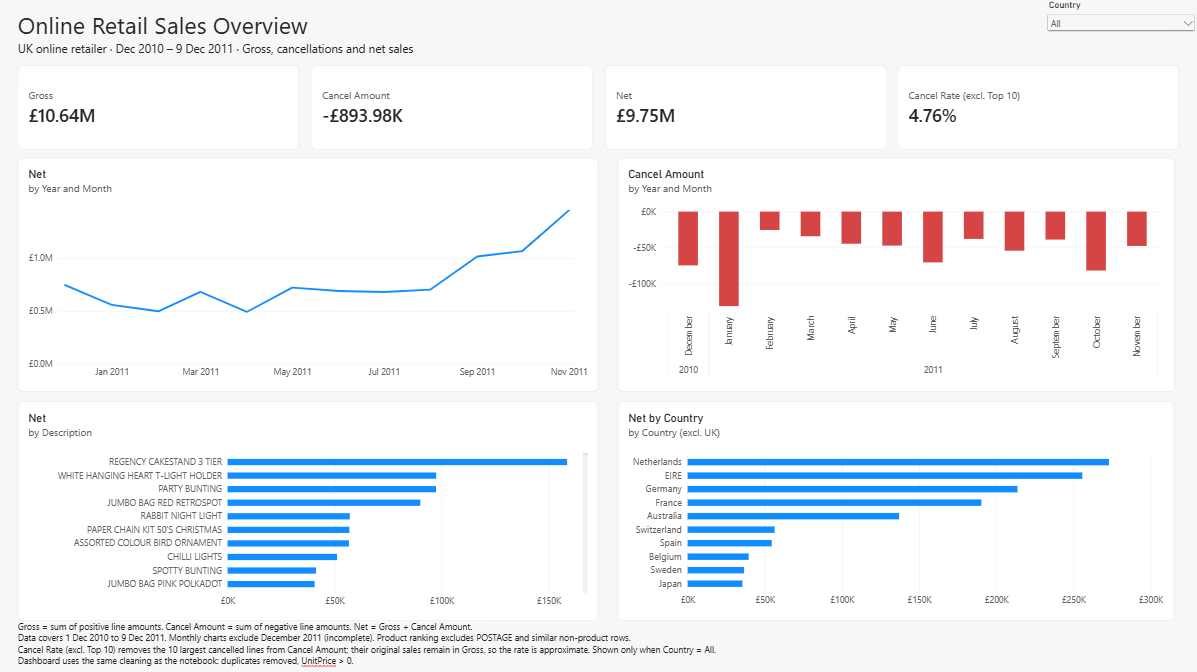

What the dashboard file says about the page in this screenshot:
{"tool":"powerbi","page":{"name":"Page 1","canvas":[1920,1080],"ordinal":0},"visuals":[{"type":"lineChart","fields":{"Category":["Online Retail.InvoiceDate.Variation.Date Hierarchy.Year","Online Retail.InvoiceDate.Variation.Date Hierarchy.Month"],"Y":["Online Retail.Net"]},"box":[30.9,254.5,929.1,374.5],"z":0},{"type":"clusteredBarChart","fields":{"Category":["Online Retail.Country"],"Y":["Online Retail.Net"]},"box":[990.9,643.6,890,350],"z":1},{"type":"clusteredBarChart","fields":{"Category":["Online Retail.Description"],"Y":["Online Retail.Net"]},"box":[30.9,643.6,929.1,350.9],"z":2},{"type":"clusteredColumnChart","fields":{"Category":["Online Retail.InvoiceDate.Variation.Date Hierarchy.Year","Online Retail.InvoiceDate.Variation.Date Hierarchy.Month"],"Y":["Online Retail.Cancel Amount"]},"box":[990.9,254.5,890.9,374.5],"z":3},{"type":"cardVisual","fields":{"Data":["Online Retail.Net"]},"box":[969,105,450,135],"z":4},{"type":"cardVisual","fields":{"Data":["Online Retail.Gross"]},"box":[30,105,450,135],"z":5},{"type":"cardVisual","fields":{"Data":["Online Retail.Cancel Amount"]},"box":[500,105,450,135],"z":6},{"type":"slicer","fields":{"Values":["Online Retail.Country"]},"box":[1671.3,0,248.5,76.6],"z":7},{"type":"textbox","box":[0,850,556,230],"z":8},{"type":"textbox","box":[30.9,994.5,1860,85.5],"z":9},{"type":"cardVisual","fields":{"Data":["Online Retail.Cancel Rate"]},"box":[1438,105,450,135],"z":10},{"type":"textbox","box":[30,15,1350,75],"z":11}]}

Visuals, with their boxes in screenshot pixels (x1, y1, x2, y2), scaled from the page's 1920x1080 canvas onto the 1197x672 screenshot:
lineChart - Online Retail.InvoiceDate.Variation.Date Hierarchy.Year x Online Retail.InvoiceDate.Variation.Date Hierarchy.Month: bbox=(19, 158, 598, 391)
clusteredBarChart - Online Retail.Country x Online Retail.Net: bbox=(618, 400, 1173, 618)
clusteredBarChart - Online Retail.Description x Online Retail.Net: bbox=(19, 400, 598, 619)
clusteredColumnChart - Online Retail.InvoiceDate.Variation.Date Hierarchy.Year x Online Retail.InvoiceDate.Variation.Date Hierarchy.Month: bbox=(618, 158, 1173, 391)
cardVisual - Online Retail.Net: bbox=(604, 65, 885, 149)
cardVisual - Online Retail.Gross: bbox=(19, 65, 299, 149)
cardVisual - Online Retail.Cancel Amount: bbox=(312, 65, 592, 149)
slicer - Online Retail.Country: bbox=(1042, 0, 1196, 48)
textbox: bbox=(0, 529, 347, 671)
textbox: bbox=(19, 619, 1179, 671)
cardVisual - Online Retail.Cancel Rate: bbox=(897, 65, 1177, 149)
textbox: bbox=(19, 9, 860, 56)
